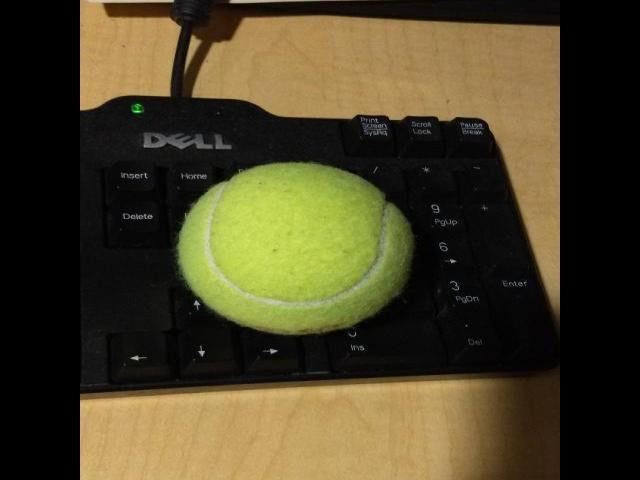tennis-ball: (175, 160, 412, 336)
